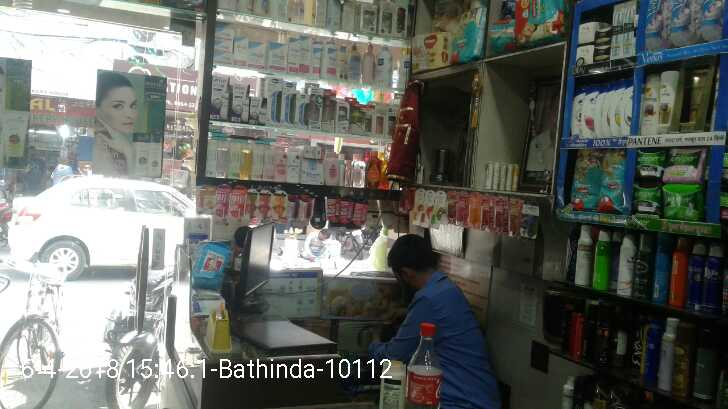venus: (647, 1, 670, 47), (673, 1, 698, 42), (699, 1, 719, 39)
